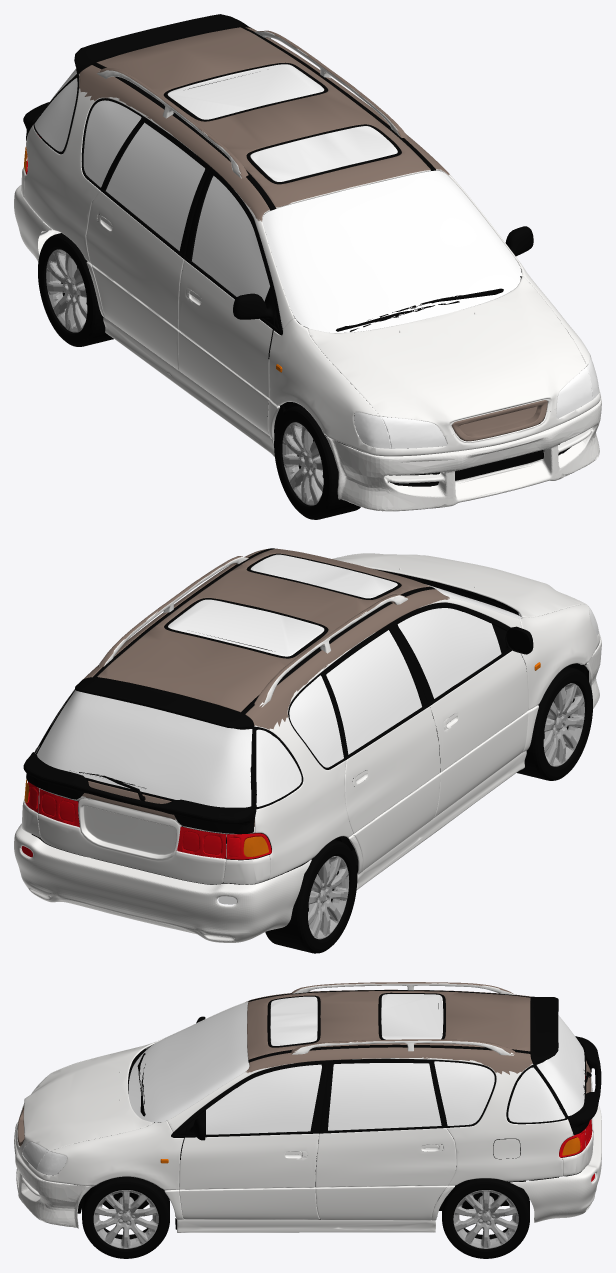
The model's file is ipsum_fin.glb.
3 renders of one model, top to bottom at view 1: azimuth 30°, elevation 25°; view 2: azimuth 150°, elevation 25°; view 3: azimuth 270°, elevation 25°, orthographic. The views are drawn at different scales.
Parts seen in each view (by area): view 1: base, front door, door right back, door front right, wheel back right.001, wheel back right, door back, lighter front right, lighter front right.001; view 2: base, door back, door right back, door front right, wheel back right, front door, wheel back right.001, lighter back right; view 3: base, door left back, door front left, front door, door back, wheel back right.003, wheel back right.002, lighter front right.001, lighter back left.
Boxes of the visible parts, x1,y1,x2,y2 form: base: [14, 27, 601, 511]; front door: [307, 276, 586, 435]; door right back: [86, 117, 210, 370]; door front right: [178, 167, 282, 435]; wheel back right.001: [274, 405, 360, 519]; wheel back right: [38, 233, 113, 346]; door back: [23, 14, 251, 140]; lighter front right: [354, 412, 447, 448]; lighter front right.001: [550, 356, 599, 418]; base: [14, 548, 601, 942]; door back: [23, 677, 256, 884]; door right back: [322, 623, 440, 871]; door front right: [390, 602, 533, 817]; wheel back right: [265, 839, 357, 953]; front door: [333, 553, 586, 617]; wheel back right.001: [517, 666, 592, 780]; lighter back right: [226, 833, 271, 859]; base: [14, 982, 601, 1232]; door left back: [315, 1058, 456, 1220]; door front left: [171, 1060, 328, 1219]; front door: [22, 1043, 154, 1150]; door back: [530, 996, 601, 1164]; wheel back right.003: [82, 1176, 169, 1258]; wheel back right.002: [442, 1178, 529, 1258]; lighter front right.001: [22, 1141, 66, 1175]; lighter back left: [559, 1129, 585, 1157].
Size of the model in its own units: 2.05 by 1.73 by 4.59.
